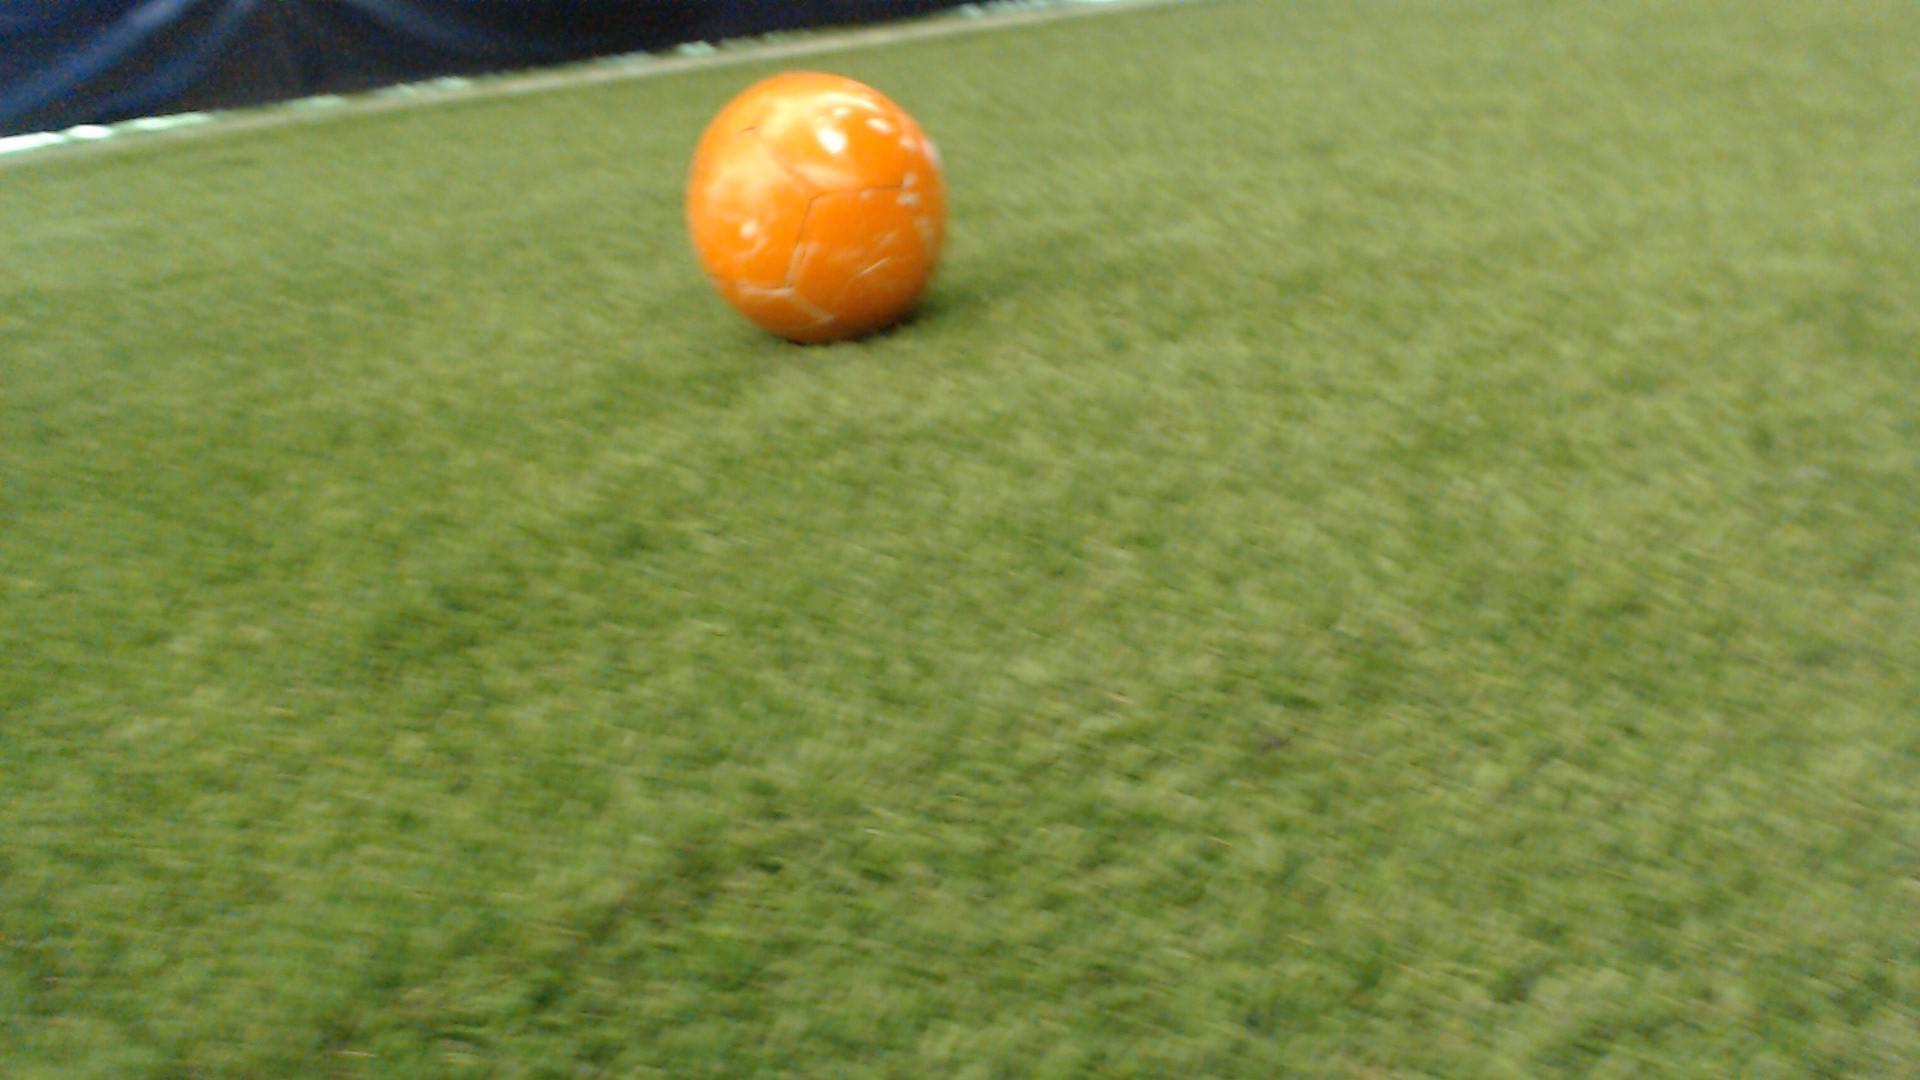bola: (667, 58, 981, 360)
